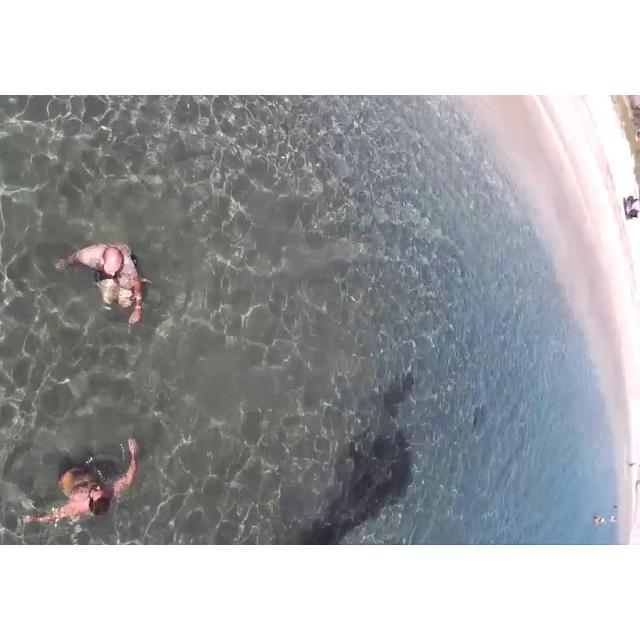human: (6, 422, 143, 539), (49, 219, 162, 339)
